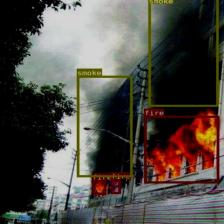fire: (144, 116, 218, 183), (92, 180, 106, 194), (110, 179, 120, 193)
smoke: (147, 0, 217, 106), (76, 75, 132, 177)
